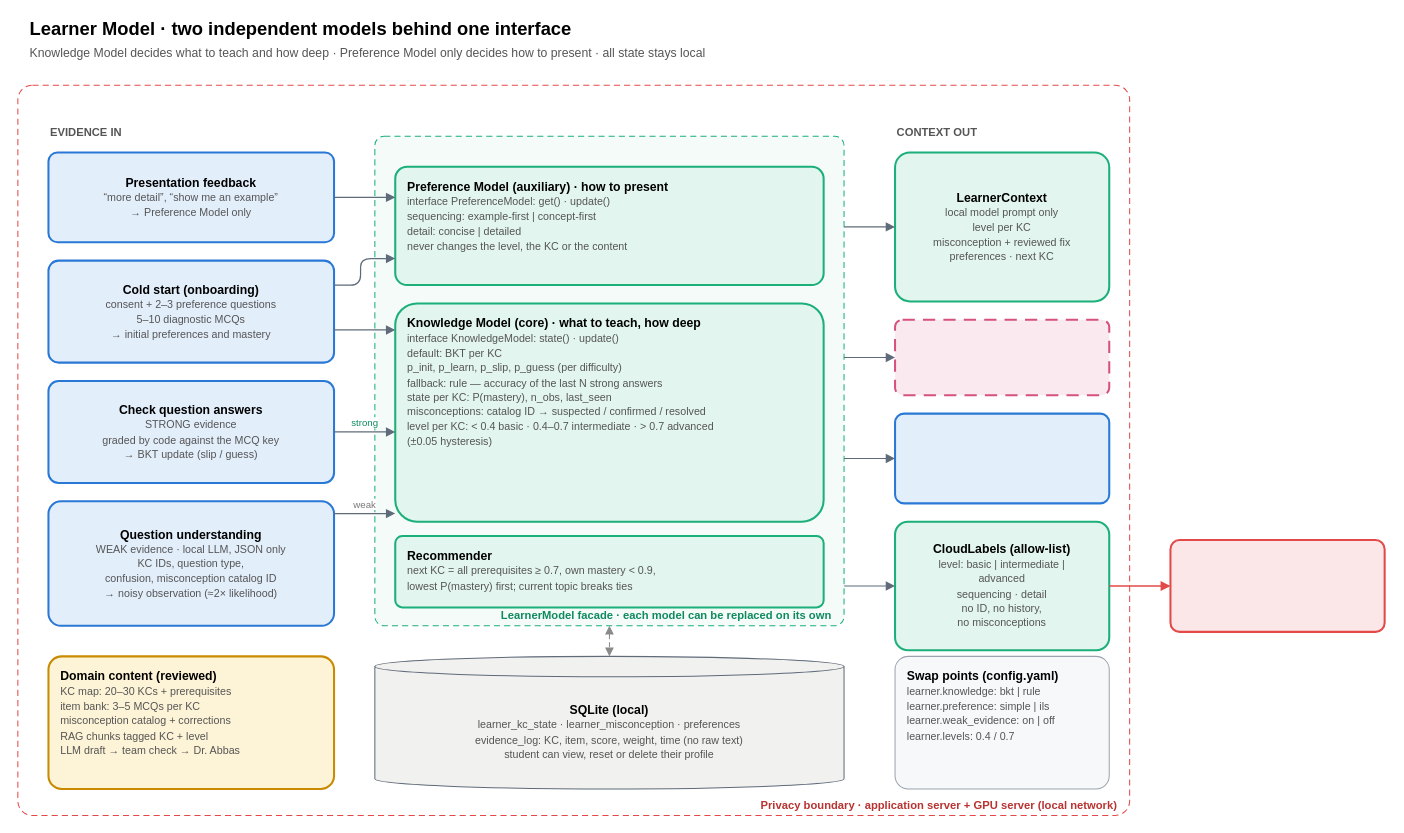
This 1404x833 diagram has some shape labels left out. The centre of each missing label's shape, as x and y in pixels:
"Cloud LLM receives: sanitized question, course passages, CloudLabels" belongs at [1277,585].
"Instructor summary mastery per KC, aggregated groups of n ≥ 5 only" belongs at [1002,458].
"Retrieval filter KC IDs + level → RAG Siyun's step" belongs at [1002,357].
